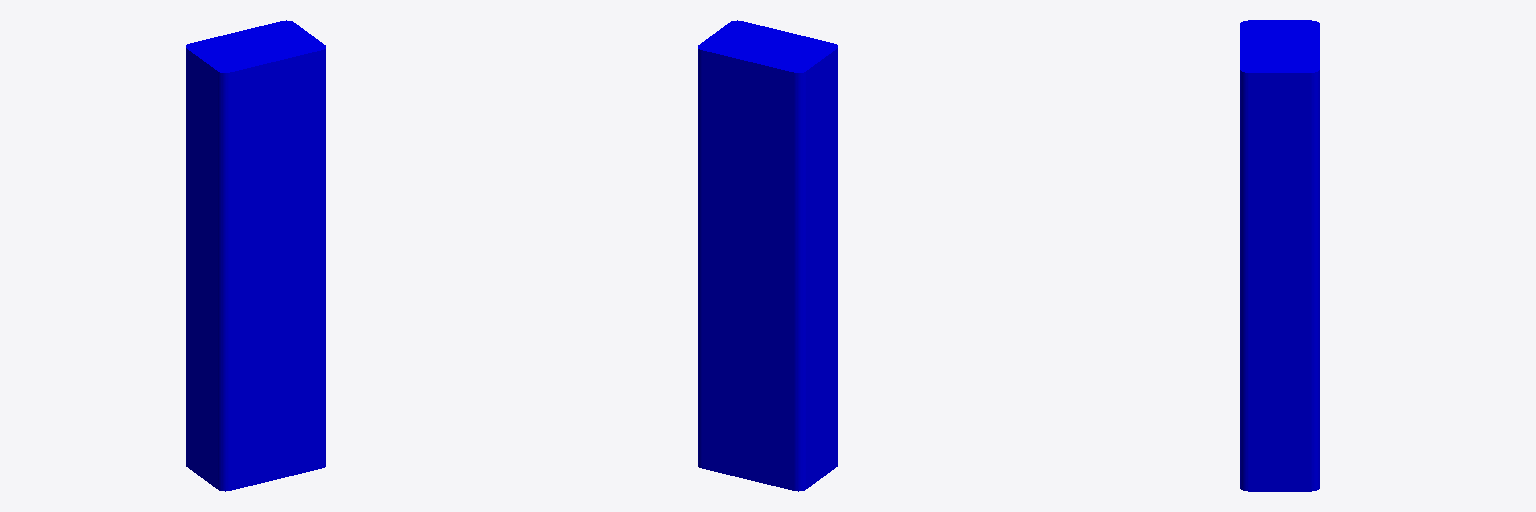
URDF robot description (board2_block14):
<?xml version="1.0"?>
<robot name="board2_block14">
    <link name="board2_block14">
        <visual>
            <origin xyz="0 0 0 " rpy=" 0 0 0"/>
            <geometry>
                <mesh filename="../meshes/SIMO_Board2_Block14.stl" scale="0.001 0.001 0.001"/>
            </geometry>
            <material name="red">
                <color rgba="0.0 0.0 1.0 1.0"/>
            </material>
        </visual>
        <collision>
            <origin xyz="0 0 0" rpy="0 0 0"/>
            <geometry>
                <mesh filename="../meshes/SIMO_Board2_Block14.stl" scale="0.001 0.001 0.001"/>
            </geometry>
        </collision>
    </link>
</robot>

--- What the picture shows (computed from the rendered views, not written in the file) ---
The picture shows the robot from 3 angles, left to right: view 1: azimuth 30°, elevation 25°; view 2: azimuth 150°, elevation 25°; view 3: azimuth 270°, elevation 25°; orthographic projection.
Model board2_block14 with 1 links and 0 joints (none), rooted at board2_block14, posed all joints at 0.
Visible links, largest first — view 1: board2_block14; view 2: board2_block14; view 3: board2_block14.
Link boxes in pixels (x1,y1,x2,y2): board2_block14: (186,20,325,491); board2_block14: (698,20,837,491); board2_block14: (1240,20,1319,491).
Size in the robot's own frame: 0.0403 by 0.0259 by 0.15 metres.
Meshes: 1 distinct files referenced, 1 mesh visuals loaded (1 ASCII STL).
